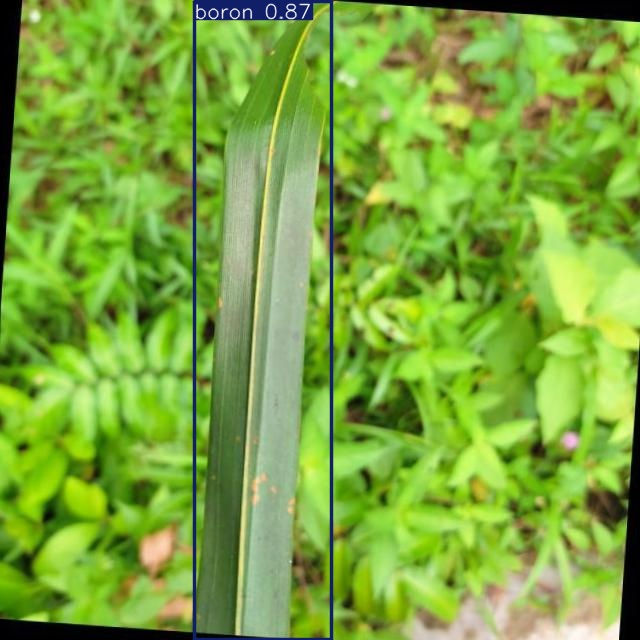nitrogen: (194, 1, 331, 639)
